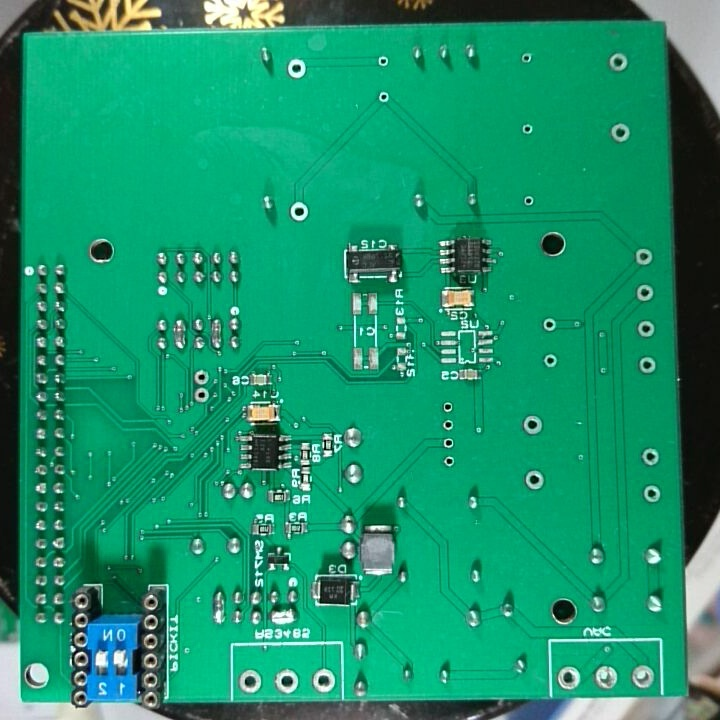F: (274, 666, 302, 698), (629, 663, 657, 692), (555, 663, 582, 693), (310, 666, 337, 696), (593, 663, 619, 691), (237, 669, 264, 695), (522, 466, 548, 493), (605, 49, 631, 76), (285, 55, 310, 83), (520, 412, 546, 438), (609, 120, 634, 147), (287, 198, 311, 223), (635, 352, 659, 376), (634, 244, 655, 269), (640, 446, 662, 469), (634, 279, 655, 303), (641, 483, 662, 506), (539, 315, 559, 335), (636, 318, 655, 338), (192, 386, 211, 406), (192, 367, 211, 386), (517, 50, 537, 68), (439, 431, 456, 452), (542, 352, 560, 371), (439, 452, 456, 472), (519, 119, 536, 138), (439, 415, 456, 433), (375, 53, 392, 71), (375, 89, 391, 107), (521, 192, 536, 210), (441, 398, 455, 416)
P: (266, 604, 298, 628), (210, 587, 228, 624), (208, 316, 224, 351), (171, 316, 187, 351)
